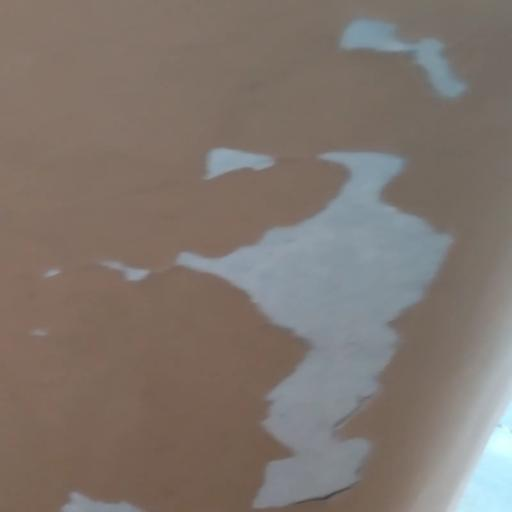peeling: (162, 114, 457, 512), (328, 5, 481, 106), (16, 243, 160, 298), (44, 474, 187, 512)
